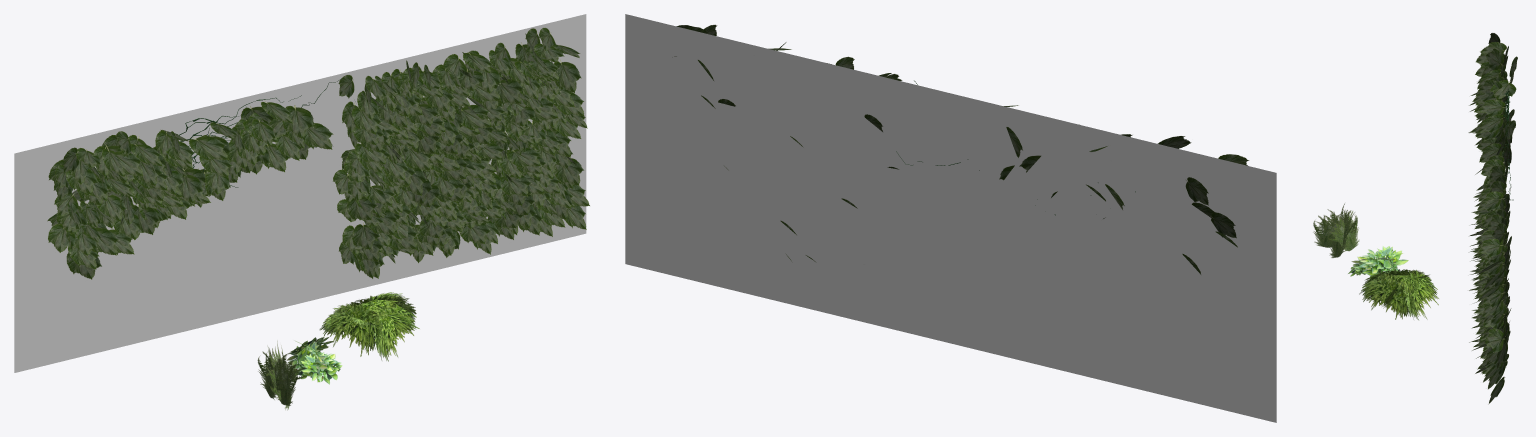
3 views of the same model, side by side, from view 1: azimuth 30°, elevation 25°; view 2: azimuth 150°, elevation 25°; view 3: azimuth 270°, elevation 25° (orthographic). The views are drawn at different scales.
Visible parts, largest first — view 1: IvyWall, Ivy_Square, Ivy_Strand, Fern2, hosta1, Fern1; view 2: IvyWall, Ivy_Strand, Ivy_Square; view 3: Ivy_Square, Ivy_Strand, Fern2, Fern1, hosta1.
Part boxes in pixels (x1,y1,x2,y2): IvyWall: [14, 14, 586, 372]; Ivy_Square: [332, 27, 589, 278]; Ivy_Strand: [47, 78, 341, 279]; Fern2: [319, 292, 419, 361]; hosta1: [286, 337, 342, 384]; Fern1: [257, 341, 307, 410]; IvyWall: [625, 14, 1276, 422]; Ivy_Strand: [896, 80, 1249, 274]; Ivy_Square: [672, 24, 902, 262]; Ivy_Square: [1469, 146, 1511, 404]; Ivy_Strand: [1468, 33, 1517, 200]; Fern2: [1359, 269, 1438, 320]; Fern1: [1313, 203, 1359, 257]; hosta1: [1348, 246, 1408, 278].
Bounding box in the file's own units: 6.8 × 2.63 × 2.72.
6 materials, 4 textured.
